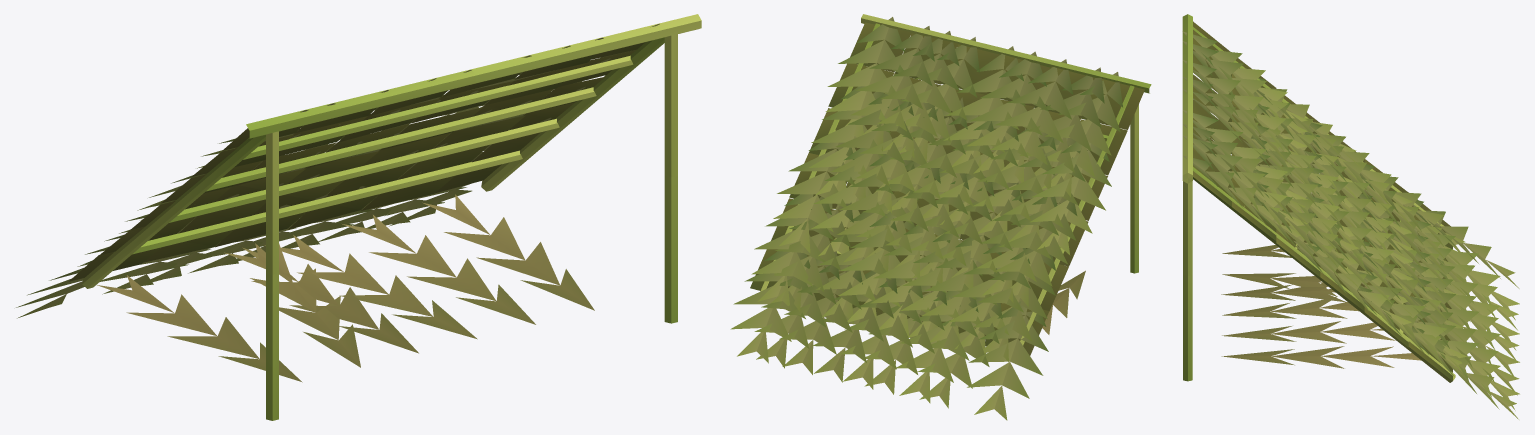
Rendered from lean_to.glb.
3 views of the same model, side by side, from view 1: azimuth 30°, elevation 25°; view 2: azimuth 150°, elevation 25°; view 3: azimuth 270°, elevation 25° (orthographic). The views are drawn at different scales.
Visible parts, largest first — view 1: lean_to_leaf, lean_to_solid; view 2: lean_to_leaf, lean_to_solid; view 3: lean_to_leaf, lean_to_solid.
Part boxes in pixels (x1,y1,x2,y2): lean_to_leaf: [16, 24, 659, 382]; lean_to_solid: [82, 14, 701, 420]; lean_to_leaf: [730, 17, 1144, 420]; lean_to_solid: [760, 14, 1151, 345]; lean_to_leaf: [1182, 21, 1519, 419]; lean_to_solid: [1182, 14, 1455, 382].
Size of the model in its own units: 3.66 by 2.62 by 3.06.
